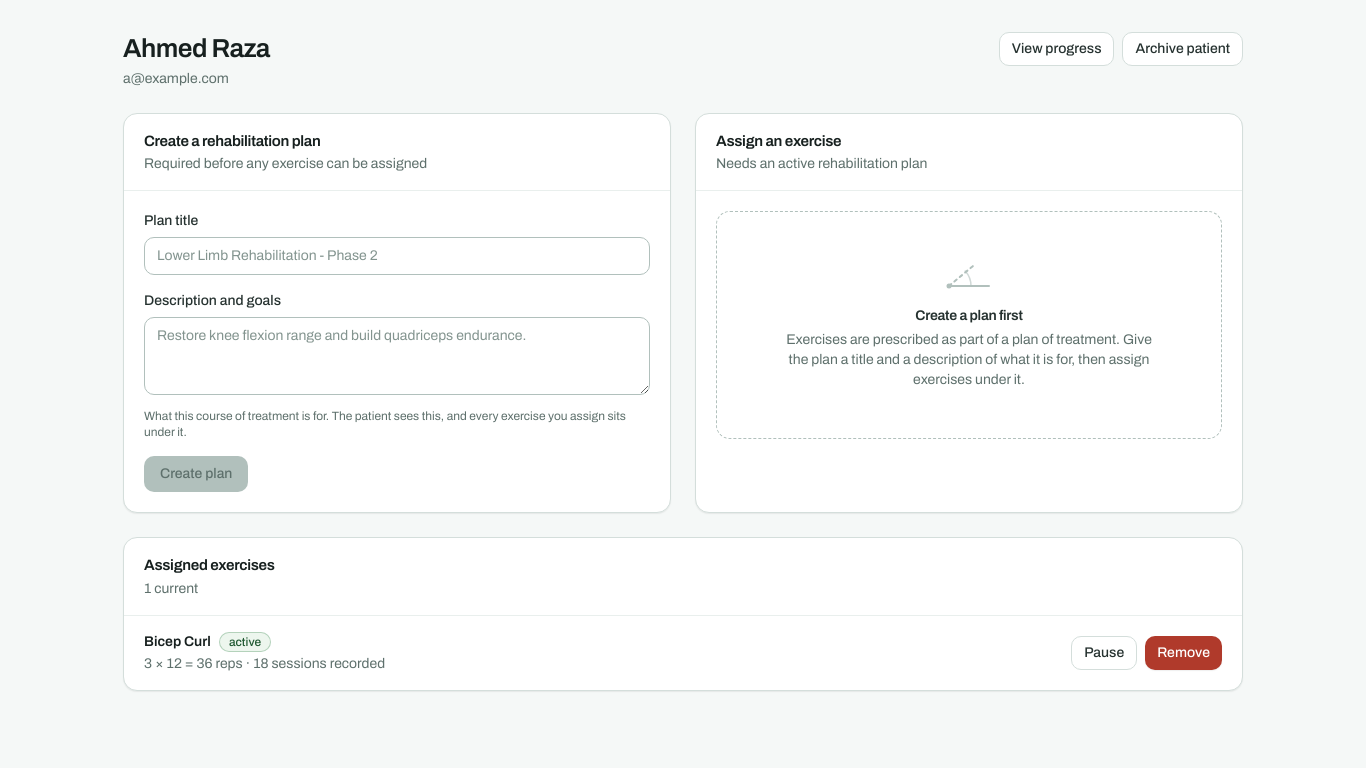
it: Assignment actions › says ARCHIVE when the assignment has recorded sessions
Click the button "Remove" at [1184, 652], box left=1145, top=636, right=1222, bottom=670
(page scrolled)
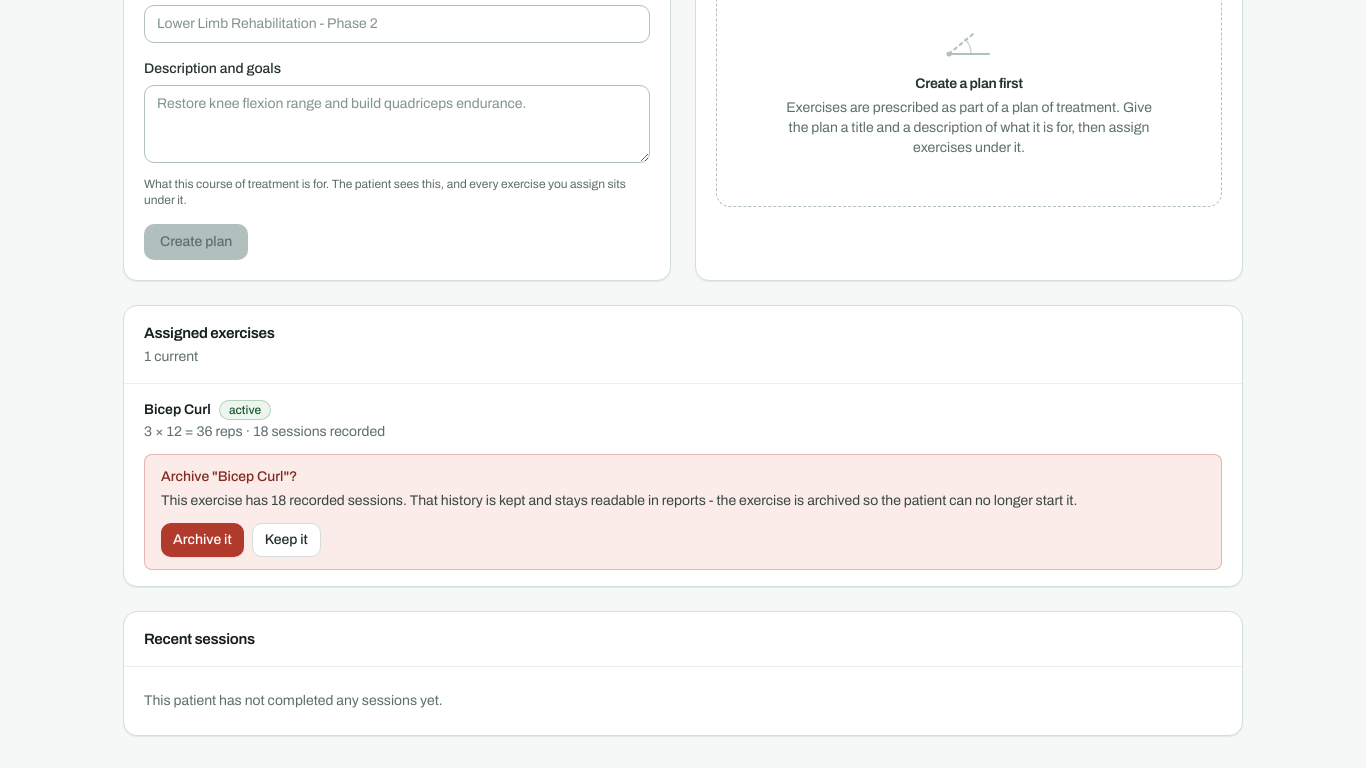
Check: the dialog shows "Archive \"Bicep Curl\"?", box left=161, top=468, right=298, bottom=484
Check: the dialog shows "18 recorded sessions", box left=161, top=492, right=1077, bottom=508
Check: the dialog shows "history is kept", box left=161, top=492, right=1077, bottom=508
